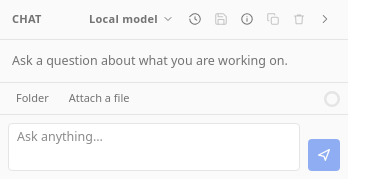
Scenario: ChatPanel: saved conversations › closes the list on Escape
Click the button named "Saved conversations" at (195, 19), box [184, 8, 206, 30]
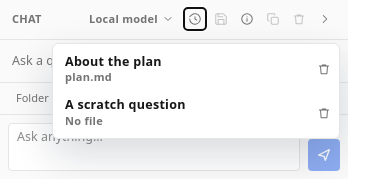
Press Escape
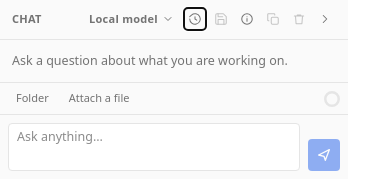
Expected: the button "About the plan" is gone
